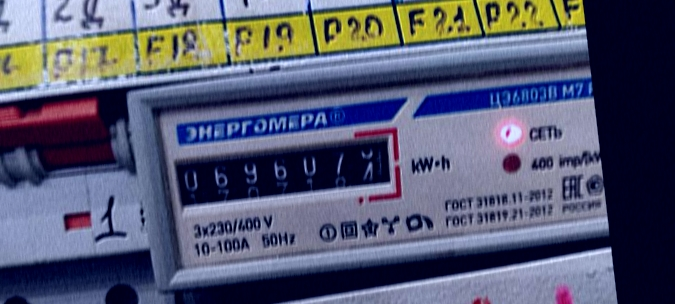0: (179, 166, 199, 192), (298, 151, 316, 177)
4: (357, 159, 375, 184)
6: (209, 163, 229, 188), (269, 155, 288, 181)
7: (328, 149, 346, 177)
9: (239, 159, 258, 185)
screen: (158, 121, 407, 222)
